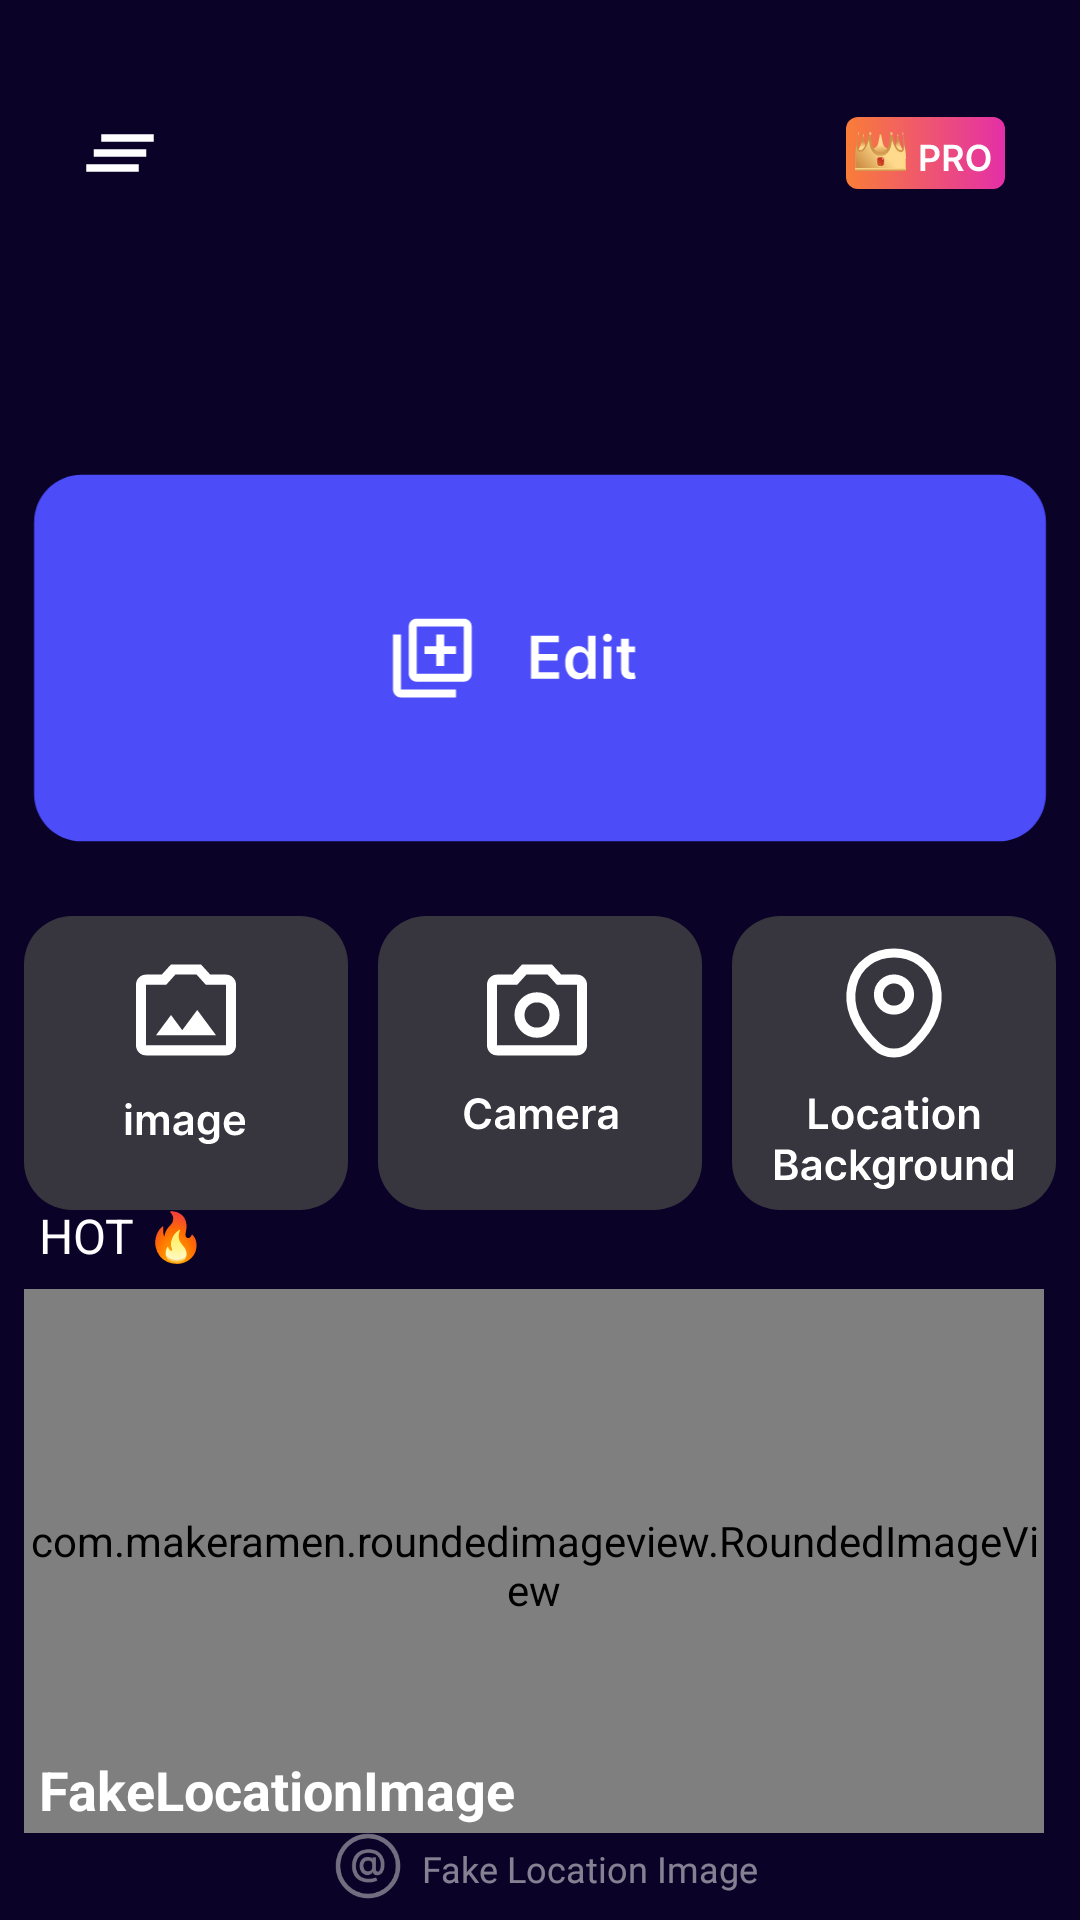

Icons on this 1080 x 1920 Android screen, each with the point to tap as [x,y]:
pick: [186,1063]
premium: [925,153]
